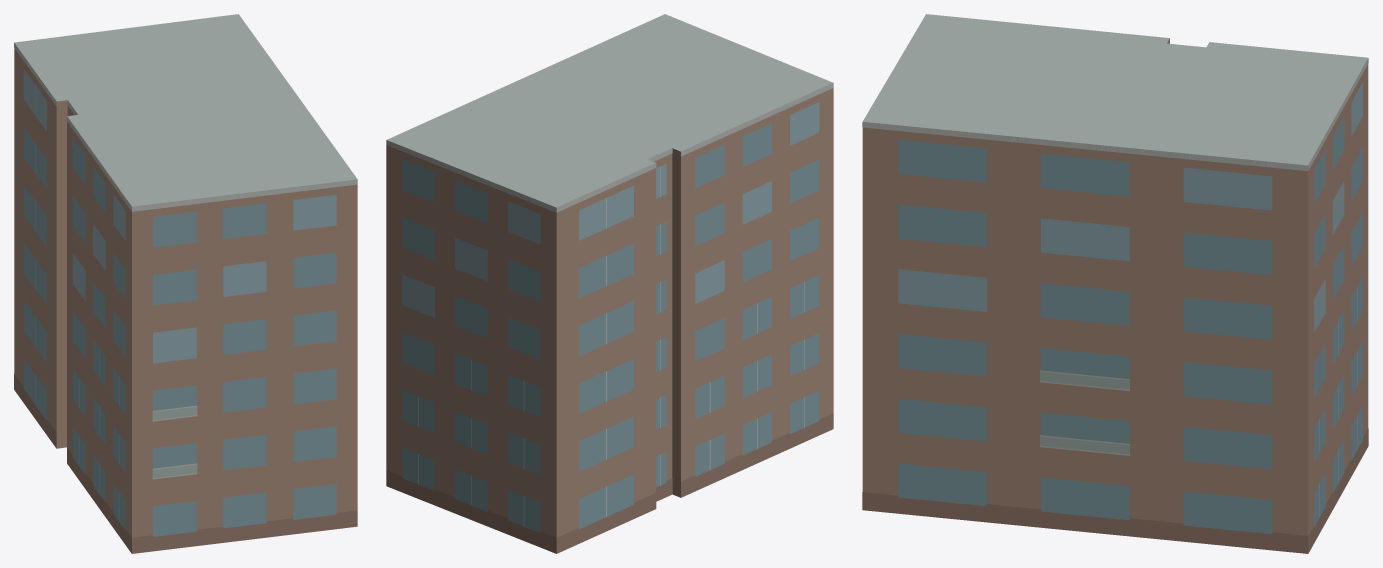
The model's file is survey-upis-32710370.glb.
The picture shows the model from 3 angles, left to right: view 1: azimuth 30°, elevation 25°; view 2: azimuth 150°, elevation 25°; view 3: azimuth 270°, elevation 25°; orthographic projection. The views are drawn at different scales.
Parts seen in each view (by area): view 1: survey-upis-32710370.tmp; view 2: survey-upis-32710370.tmp; view 3: survey-upis-32710370.tmp.
Part boxes in pixels (<box>): survey-upis-32710370.tmp: <box>14,14,357,553</box>; survey-upis-32710370.tmp: <box>386,14,833,553</box>; survey-upis-32710370.tmp: <box>862,14,1368,553</box>.
Size of the model in its own units: 13.9 by 16.6 by 19.61.
